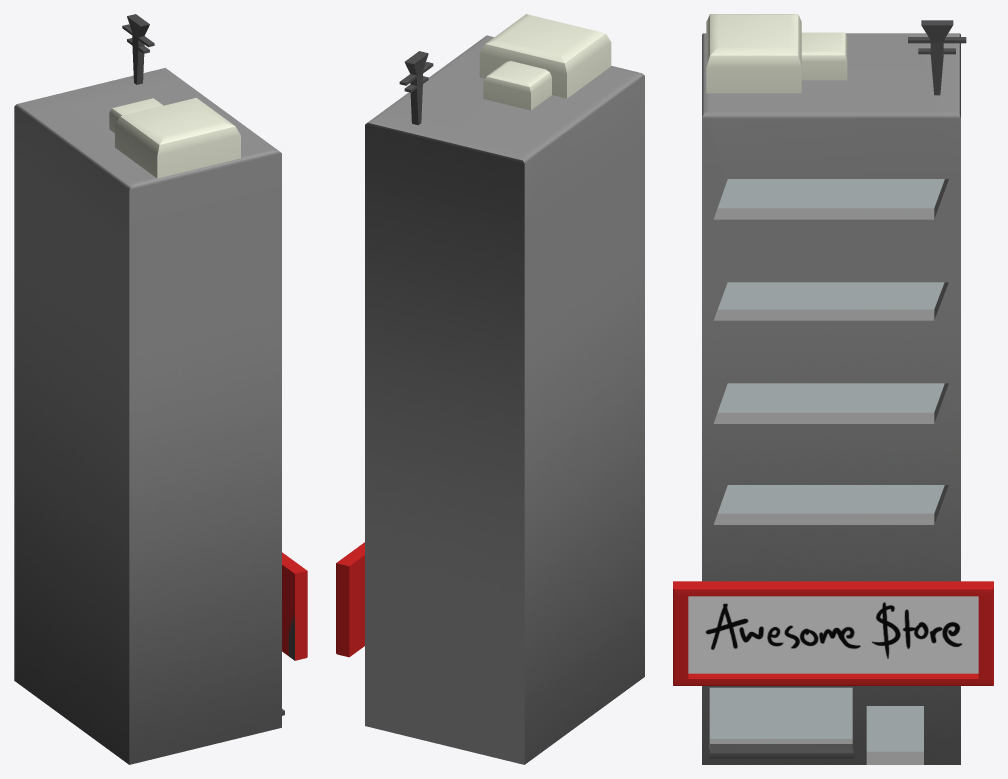
Rendered from BuildingTall_04.fbx.
3 views of the same model, side by side, from view 1: azimuth 30°, elevation 25°; view 2: azimuth 150°, elevation 25°; view 3: azimuth 270°, elevation 25° (orthographic). The views are drawn at different scales.
Parts seen in each view (by area): view 1: polySurface821; view 2: polySurface821; view 3: polySurface821.
Boxes of the visible parts, x1,y1,x2,y2 form: polySurface821: [14, 14, 307, 764]; polySurface821: [336, 14, 644, 764]; polySurface821: [673, 14, 993, 764].
Size of the model in its own units: 4.32 by 15.91 by 6.42.
